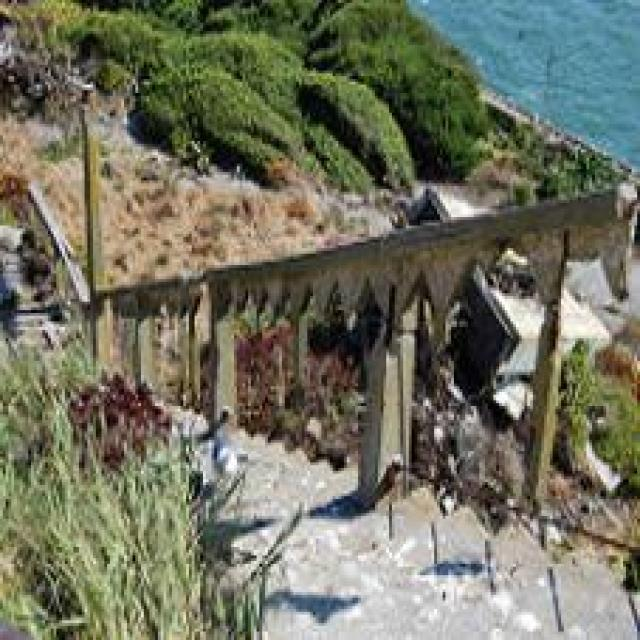downstair: (238, 432, 486, 627)
